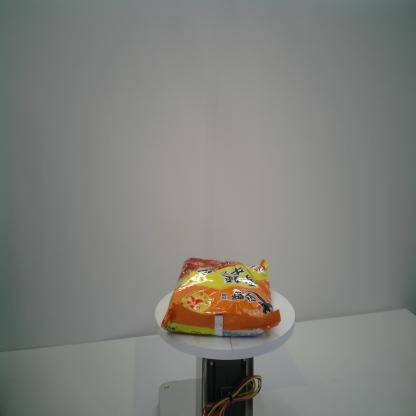Instant Noodles: (159, 257, 282, 338)
